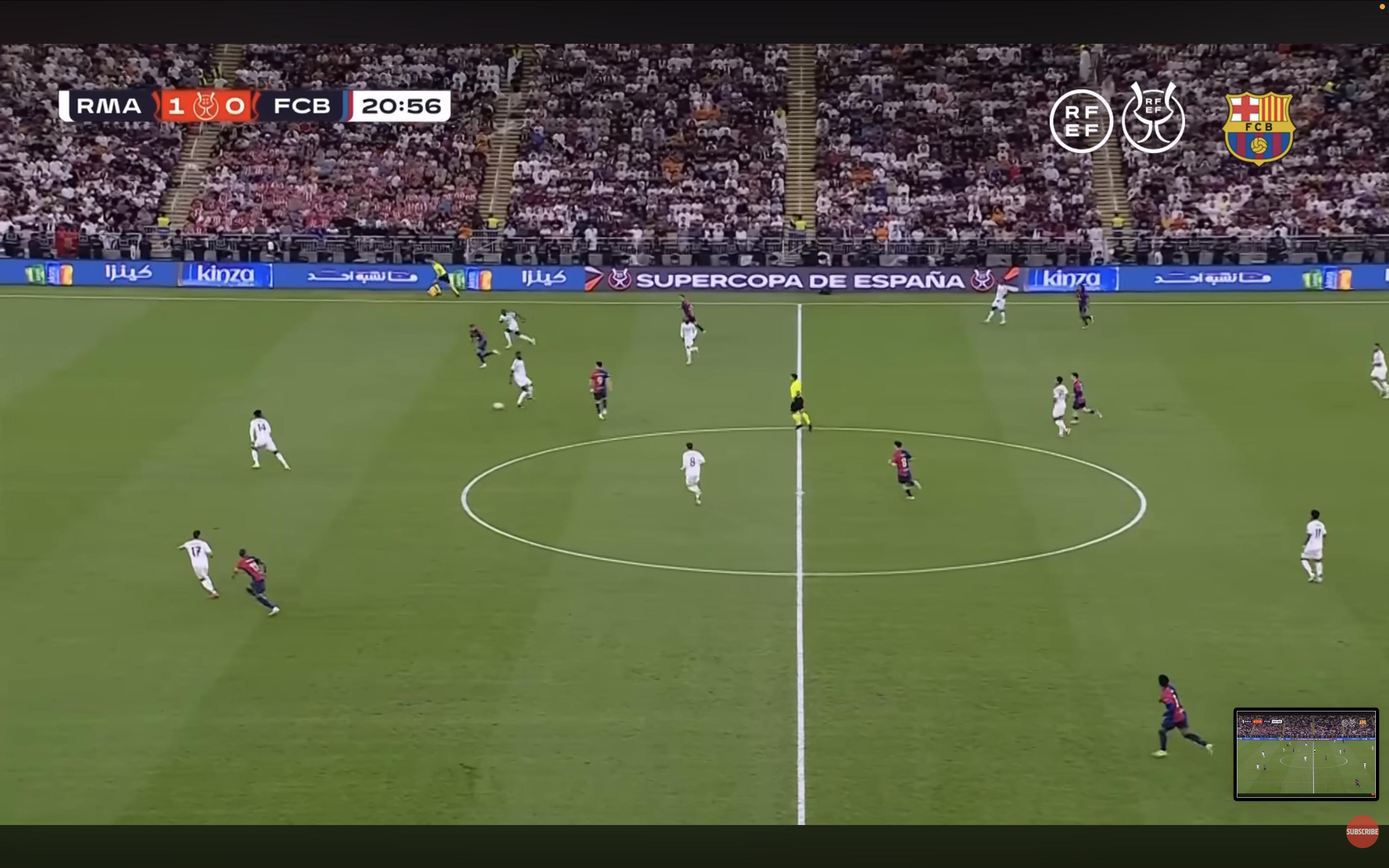ball: (492, 402, 504, 410)
player: (1152, 675, 1213, 757), (234, 549, 279, 615), (179, 530, 218, 599), (249, 410, 289, 470), (1301, 511, 1327, 583), (890, 441, 921, 499), (1072, 372, 1102, 423), (499, 309, 535, 348), (682, 443, 705, 504), (510, 352, 533, 408), (469, 324, 498, 368), (590, 361, 610, 420), (984, 278, 1009, 324), (1052, 376, 1071, 436), (1370, 343, 1389, 398), (680, 295, 704, 332), (680, 322, 699, 365), (1076, 284, 1093, 328)
referee: (427, 258, 460, 297), (790, 373, 812, 430)
